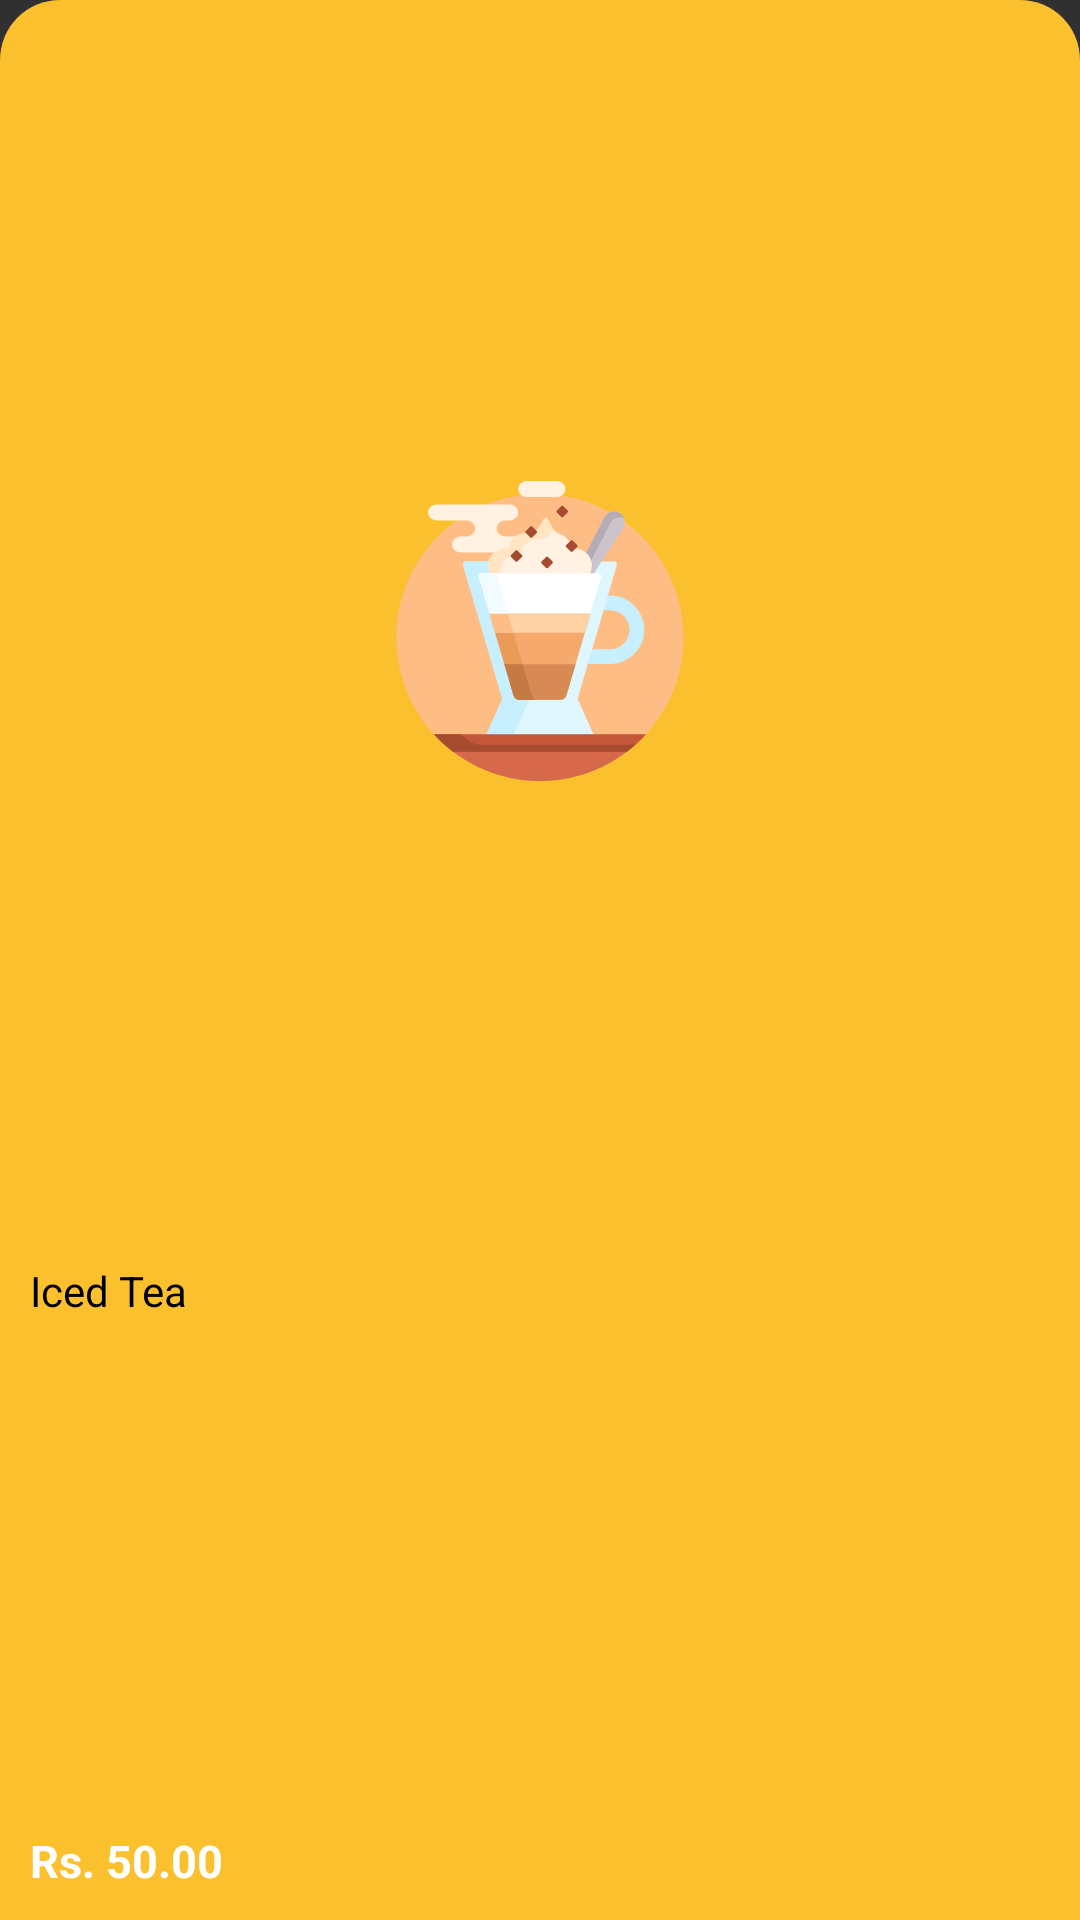

Where icons sit on this 1080 x 1920 app screen, as bbox(x1, y1, x2, y2):
cappuccino: bbox(396, 481, 684, 781)
